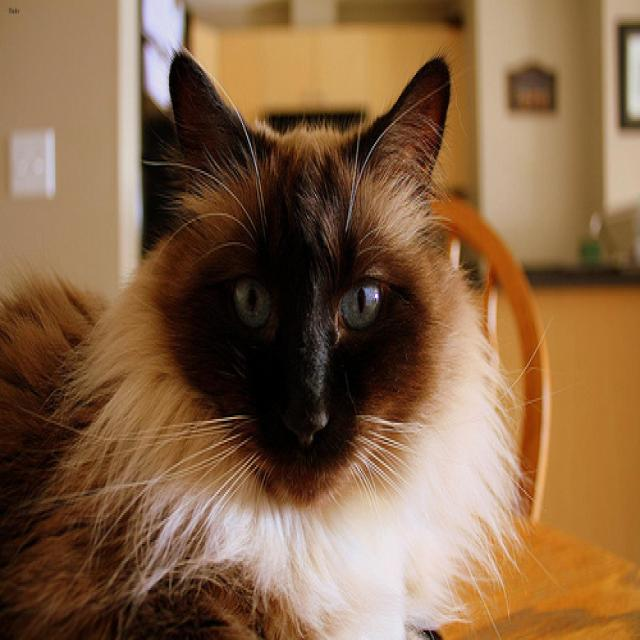Birman: (164, 44, 449, 504)
